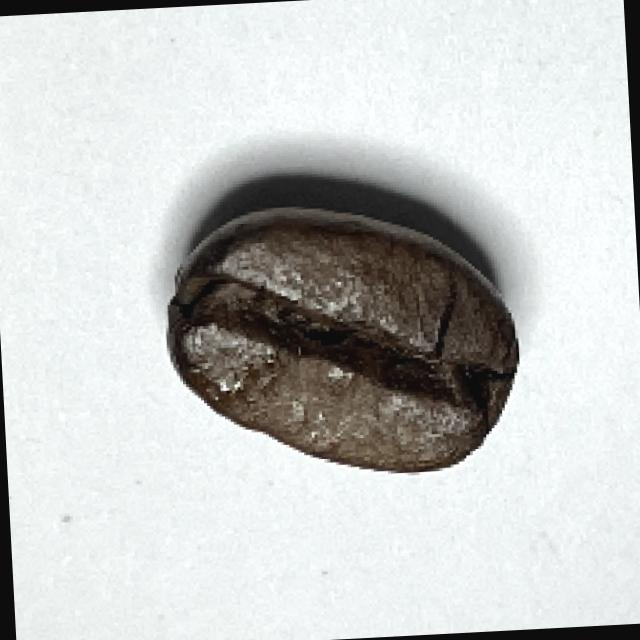bean: (160, 197, 530, 486)
